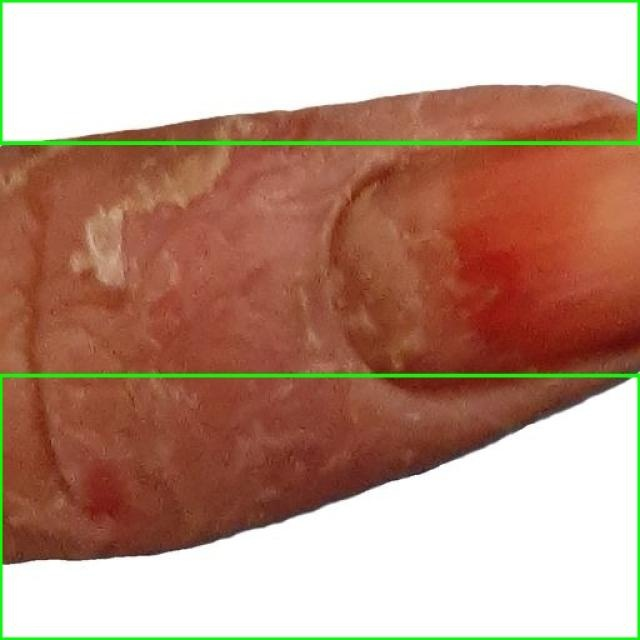Contact Dermatitis: (0, 375, 639, 639), (0, 0, 639, 142)
